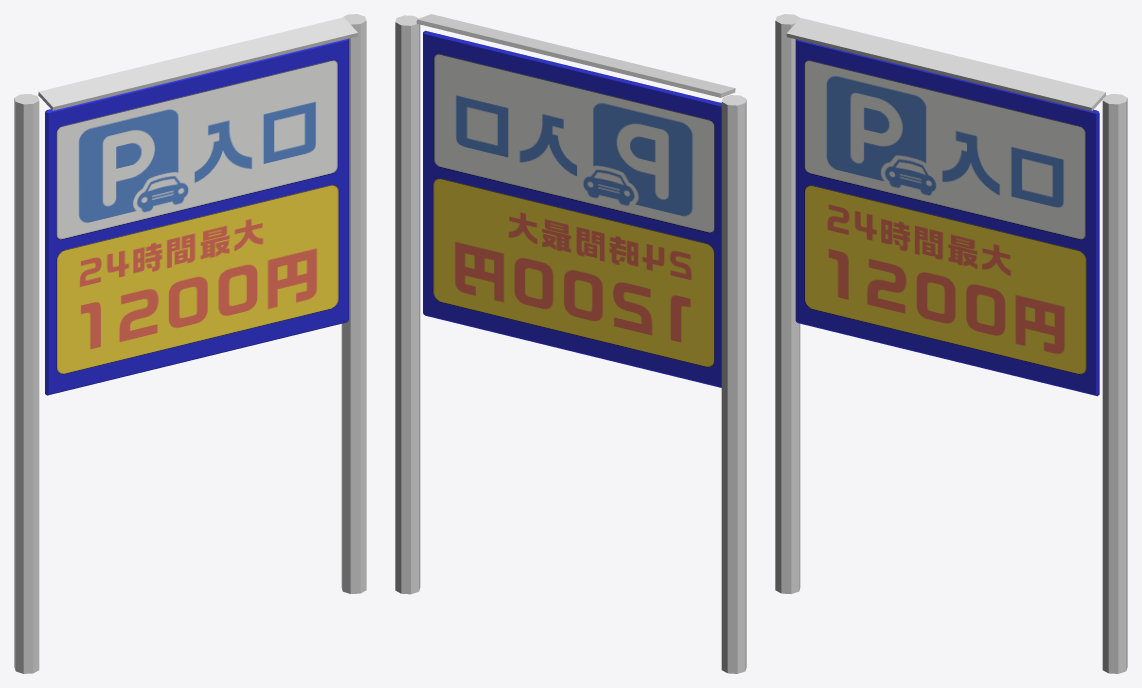
Rendered from parking.fbx.
The picture shows the model from 3 angles, left to right: view 1: azimuth 30°, elevation 25°; view 2: azimuth 150°, elevation 25°; view 3: azimuth 330°, elevation 25°; orthographic projection.
Visible parts, largest first — view 1: Plane.005, Cylinder.004, Cylinder.005, Plane.006; view 2: Plane.005, Cylinder.004, Cylinder.005, Plane.006; view 3: Plane.005, Cylinder.005, Cylinder.004, Plane.006.
Boxes of the visible parts, x1=… form: Plane.005: x1=45, y1=38, x2=348, y2=395; Cylinder.004: x1=14, y1=94, x2=39, y2=673; Cylinder.005: x1=341, y1=14, x2=366, y2=593; Plane.006: x1=38, y1=17, x2=357, y2=110; Plane.005: x1=423, y1=30, x2=721, y2=387; Cylinder.004: x1=721, y1=95, x2=746, y2=673; Cylinder.005: x1=395, y1=15, x2=420, y2=594; Plane.006: x1=416, y1=14, x2=735, y2=97; Plane.005: x1=795, y1=39, x2=1099, y2=396; Cylinder.005: x1=1102, y1=94, x2=1127, y2=673; Cylinder.004: x1=775, y1=14, x2=800, y2=593; Plane.006: x1=786, y1=18, x2=1106, y2=111.
Bounding box in the file's own units: 6.22 × 9.75 × 0.6247.
3 materials, 1 textured.
